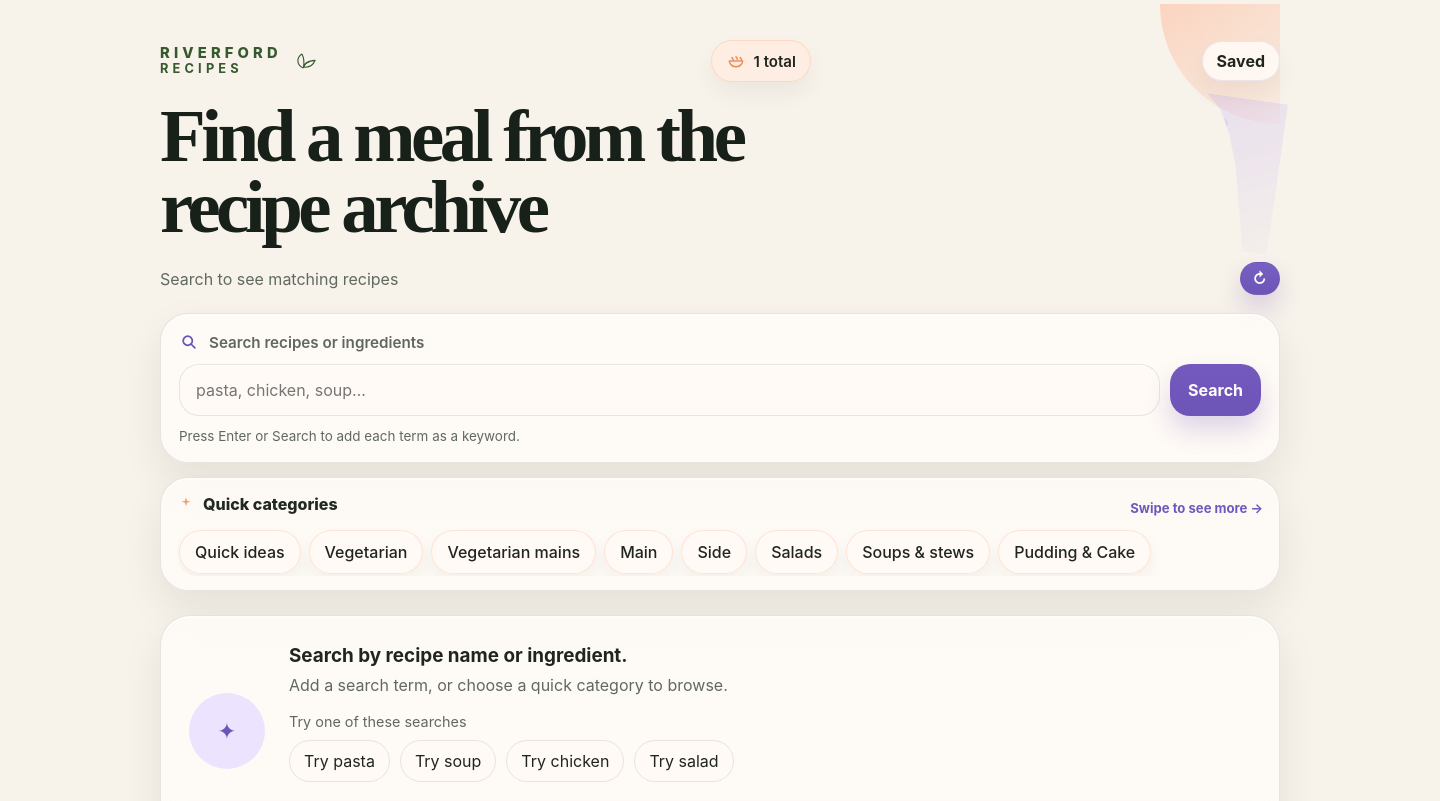
it: App › saves and unsaves recipes through the bookmark button
Expected: the text "1 total" is shown, x1=710 y1=40 x2=811 y2=82
Click the button "Quick ideas" at (240, 552), box x1=179 y1=530 x2=301 y2=574
(page scrolled)
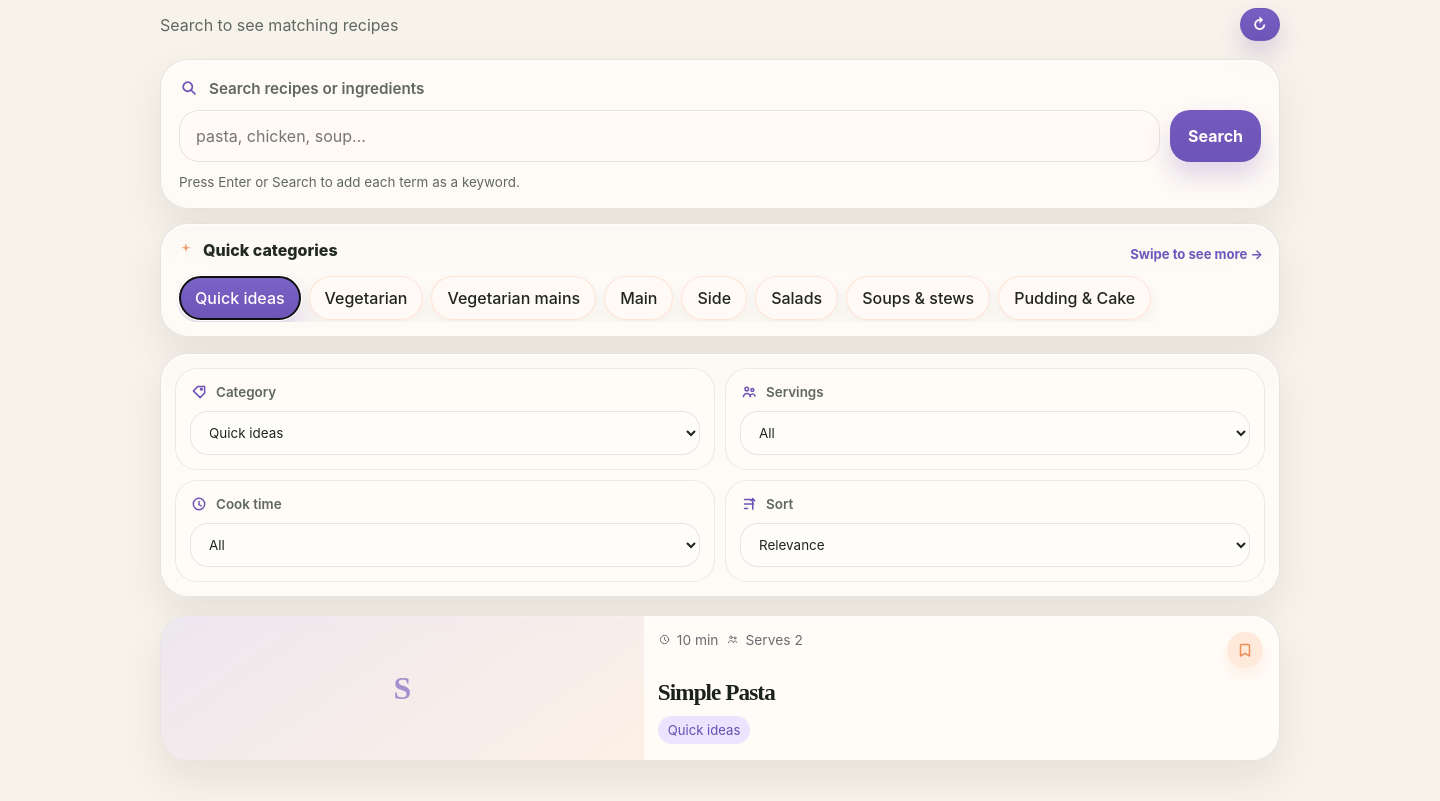
Click the button named "save simple pasta" at (1245, 650), box x1=1227 y1=632 x2=1263 y2=668
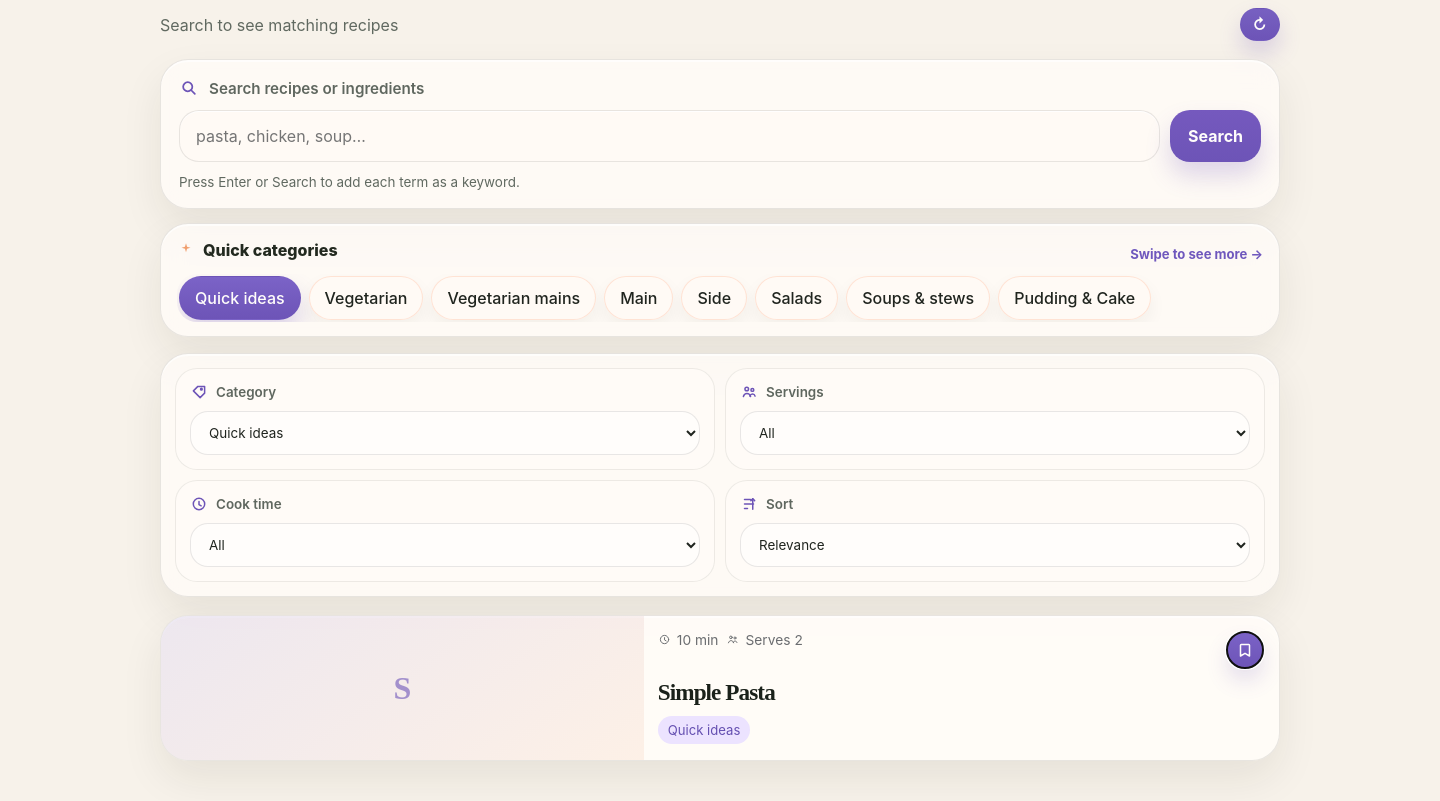
Result: the button named "remove saved recipe simple pasta" is shown
Click the button named "remove saved recipe simple pasta" at (1245, 650), box x1=1227 y1=632 x2=1263 y2=668
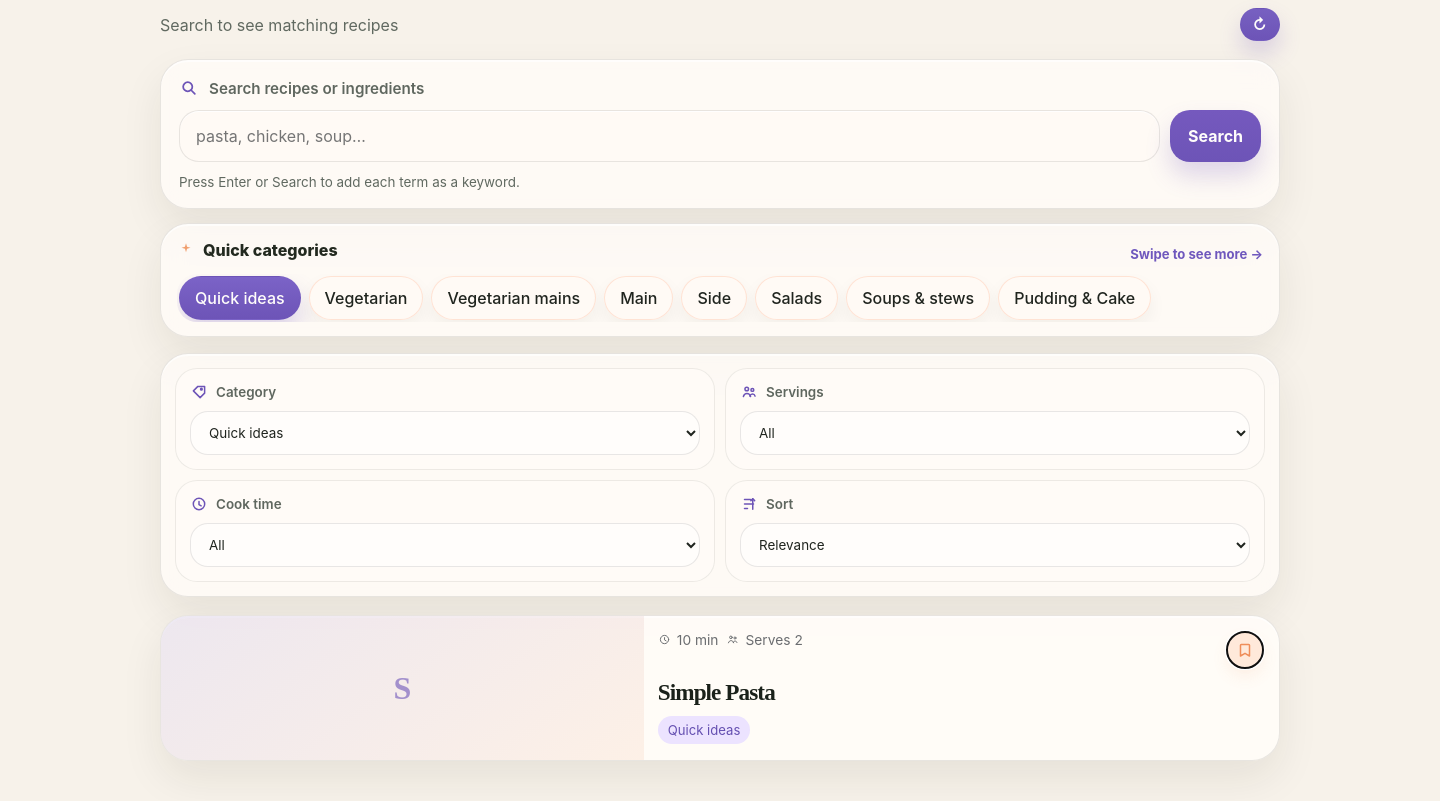
Result: the button named "save simple pasta" is shown at x1=1227 y1=632 x2=1263 y2=668
